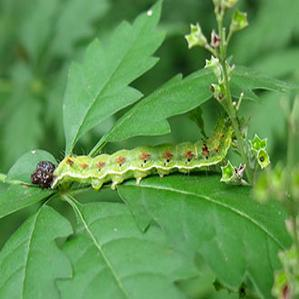Cotton bollworm: (43, 110, 259, 205)
